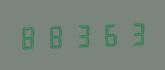eight: (18, 22, 43, 51), (44, 21, 69, 50)
six: (96, 19, 121, 48)
three: (70, 20, 95, 49), (122, 18, 147, 47)
